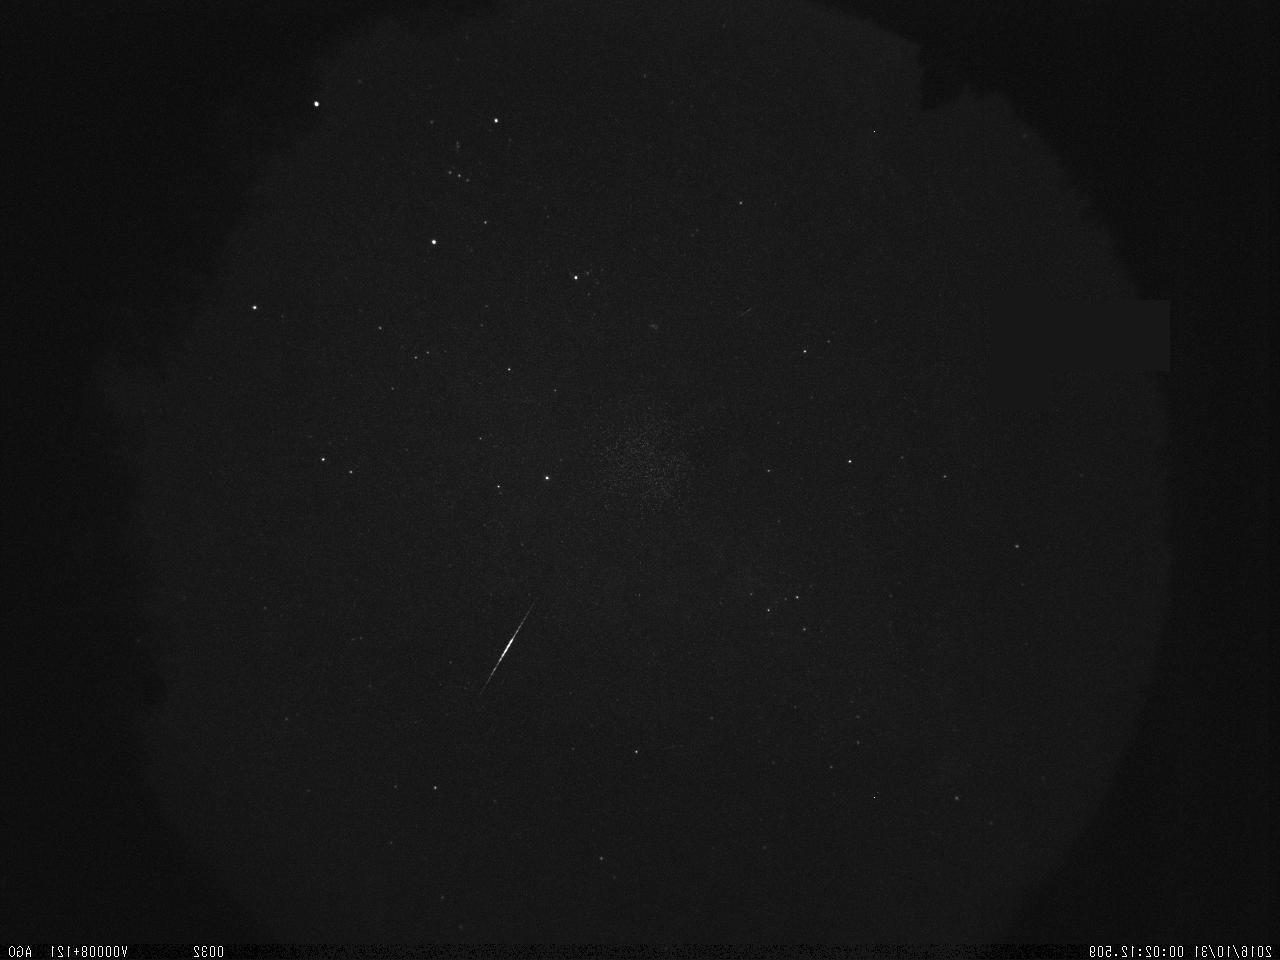meteor: (450, 584, 551, 724)
